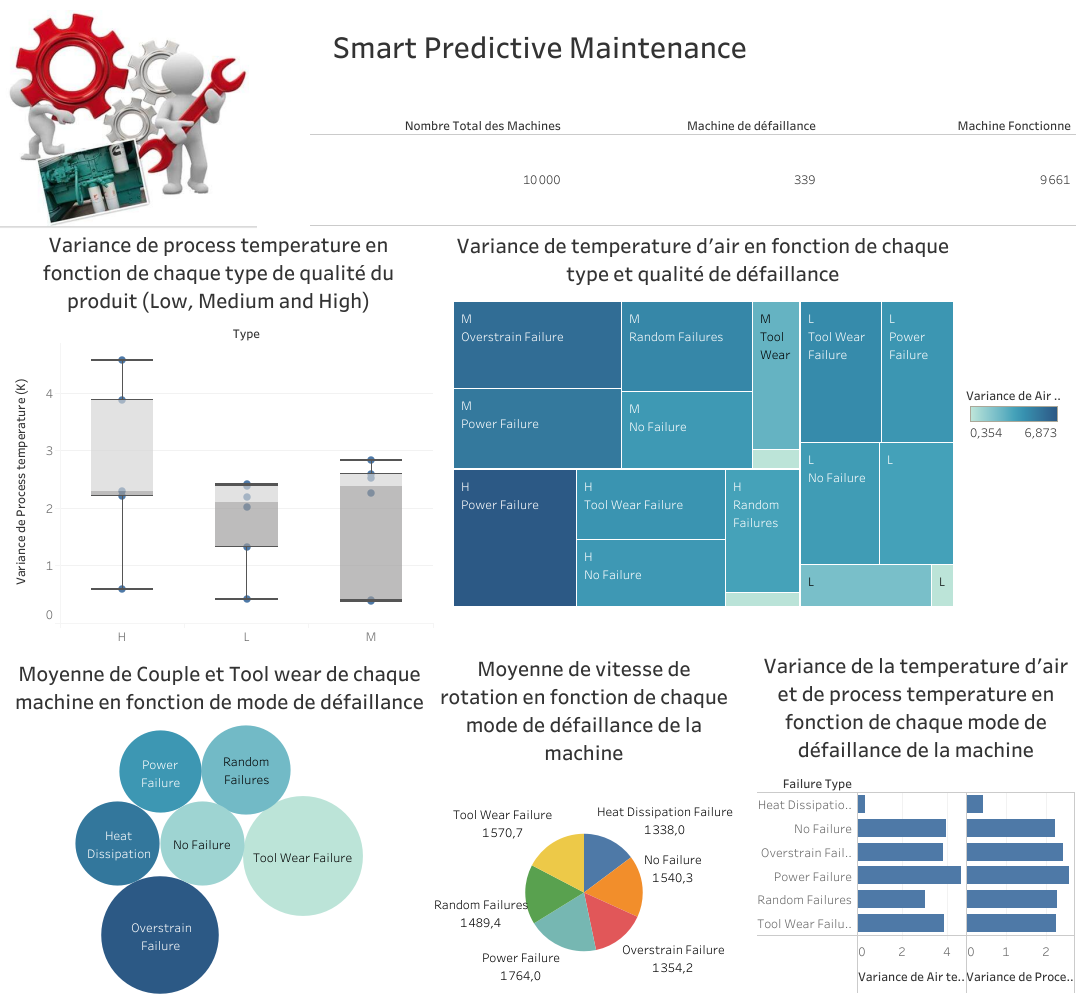

What the dashboard file says about the page in this screenshot:
{"tool":"tableau","page":{"name":"Smart Predictive Maintenace Dashboard","canvas":[1080,1000],"ordinal":0},"visuals":[{"type":"title","box":[8,8,1064,76]},{"type":"worksheet","title":"Total/Failure/not Failure Machine","mark":"Automatic","box":[310,94,766,132]},{"type":"worksheet","title":"Variance de process temperature en fonction de chaque type de qualité du produit (Low, Medium and High)","mark":"Circle","rows":["Process temperature (K)"],"cols":["Type"],"box":[4,224,429,421]},{"type":"worksheet","title":"Variance de temperature d'air en fonction de chaque type et qualité de défaillance","mark":"Automatic","box":[448,225,510,403]},{"type":"legend","title":"Variance de temperature d'air en fonction de chaque type et qualité de défaillance","param":"[federated.0ic4ala0dspqqg1b3gunu0uvawqd].[var:Air temperature (K):qk]","box":[721.1,281.1,109.4,192.2]},{"type":"legend","title":"Variance de temperature d'air en fonction de chaque type et qualité de défaillance","param":"[federated.0ic4ala0dspqqg1b3gunu0uvawqd].[var:Air temperature (K):qk]","box":[966,382,96,89]},{"type":"worksheet","title":"Variance de la temperature d'air et de process temperature en fonction de chaque mode de défaillance de la machine","mark":"Automatic","rows":["Failure Type"],"cols":["Air temperature (K)","Process temperature (K)"],"box":[757,645,318,348]},{"type":"worksheet","title":"Moyenne de Couple et Tool wear de chaque machine en fonction de mode de défaillance","mark":"Circle","box":[3,653,433,341]}]}

Visuals, with their boxes in screenshot pixels (x1, y1, x2, y2), scaled from the page's 1080x1000 canvas onto the 1080x1000 screenshot:
title: <bbox>8, 8, 1072, 84</bbox>
"Total/Failure/not Failure Machine" worksheet: <bbox>310, 94, 1076, 226</bbox>
"Variance de process temperature en fonction de chaque type de qualité du produit (Low, Medium and High)" worksheet (Circle marks): <bbox>4, 224, 433, 645</bbox>
"Variance de temperature d'air en fonction de chaque type et qualité de défaillance" worksheet: <bbox>448, 225, 958, 628</bbox>
"Variance de temperature d'air en fonction de chaque type et qualité de défaillance" legend: <bbox>721, 281, 830, 473</bbox>
"Variance de temperature d'air en fonction de chaque type et qualité de défaillance" legend: <bbox>966, 382, 1062, 471</bbox>
"Variance de la temperature d'air et de process temperature en fonction de chaque mode de défaillance de la machine" worksheet: <bbox>757, 645, 1075, 993</bbox>
"Moyenne de Couple et Tool wear de chaque machine en fonction de mode de défaillance" worksheet (Circle marks): <bbox>3, 653, 436, 994</bbox>
